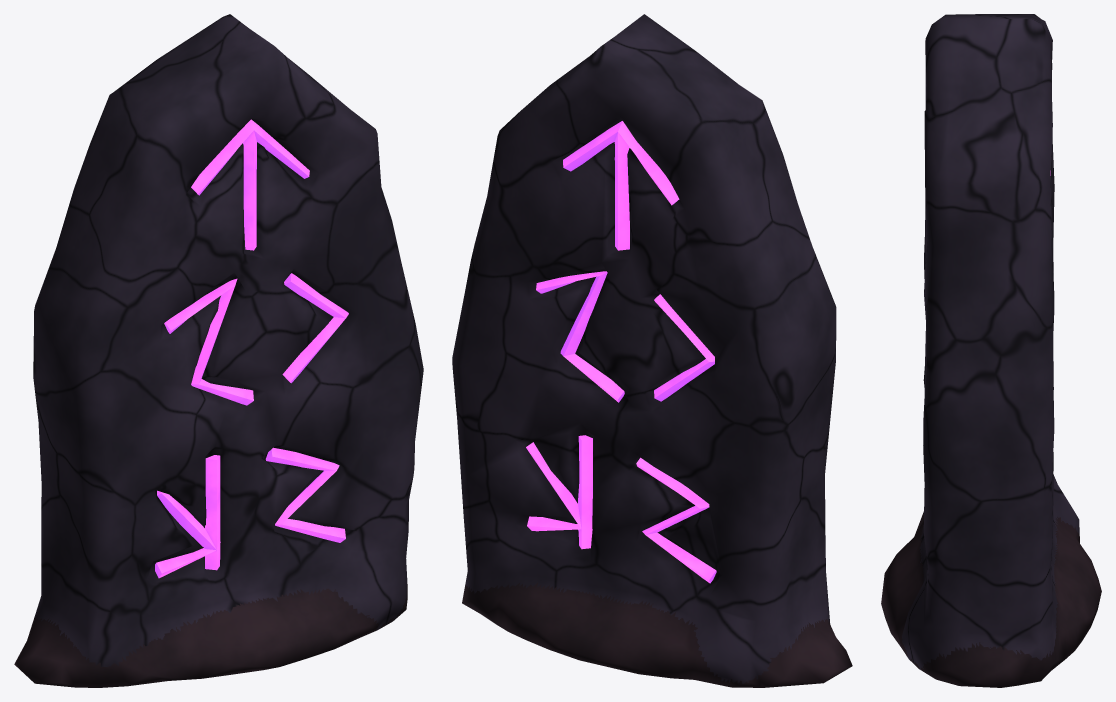
The model's file is piedra_runica.fbx.
The picture shows the model from 3 angles, left to right: view 1: azimuth 30°, elevation 25°; view 2: azimuth 150°, elevation 25°; view 3: azimuth 270°, elevation 25°; orthographic projection.
Visible parts, largest first — view 1: piedra, runas_neon; view 2: piedra, runas_neon; view 3: piedra.
Boxes of the visible parts, bbox=[...] form: piedra: bbox=[14, 14, 423, 687]; runas_neon: bbox=[155, 119, 348, 578]; piedra: bbox=[452, 14, 852, 687]; runas_neon: bbox=[526, 121, 716, 583]; piedra: bbox=[881, 14, 1101, 687].
Size of the model in its own units: 2 by 3 by 1.
Materials: 1 (1 with a texture image).
